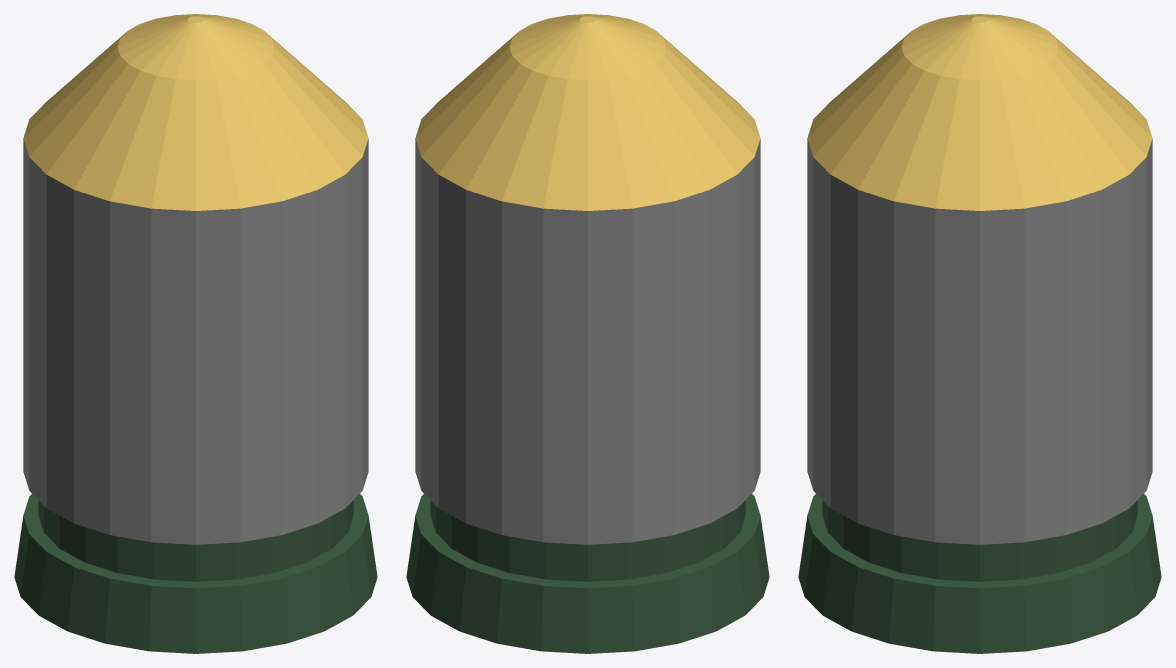
File: Rocket_Projectile.fbx
3 views of the same model, side by side, from view 1: azimuth 30°, elevation 25°; view 2: azimuth 150°, elevation 25°; view 3: azimuth 270°, elevation 25° (orthographic).
Visible parts, largest first — view 1: Projectile; view 2: Projectile; view 3: Projectile.
Part boxes in pixels (box(x1,y1,x2,y2)): Projectile: box(14, 14, 377, 653); Projectile: box(406, 14, 769, 653); Projectile: box(798, 14, 1161, 653).
Bounding box in the file's own units: 150 × 255 × 150.
